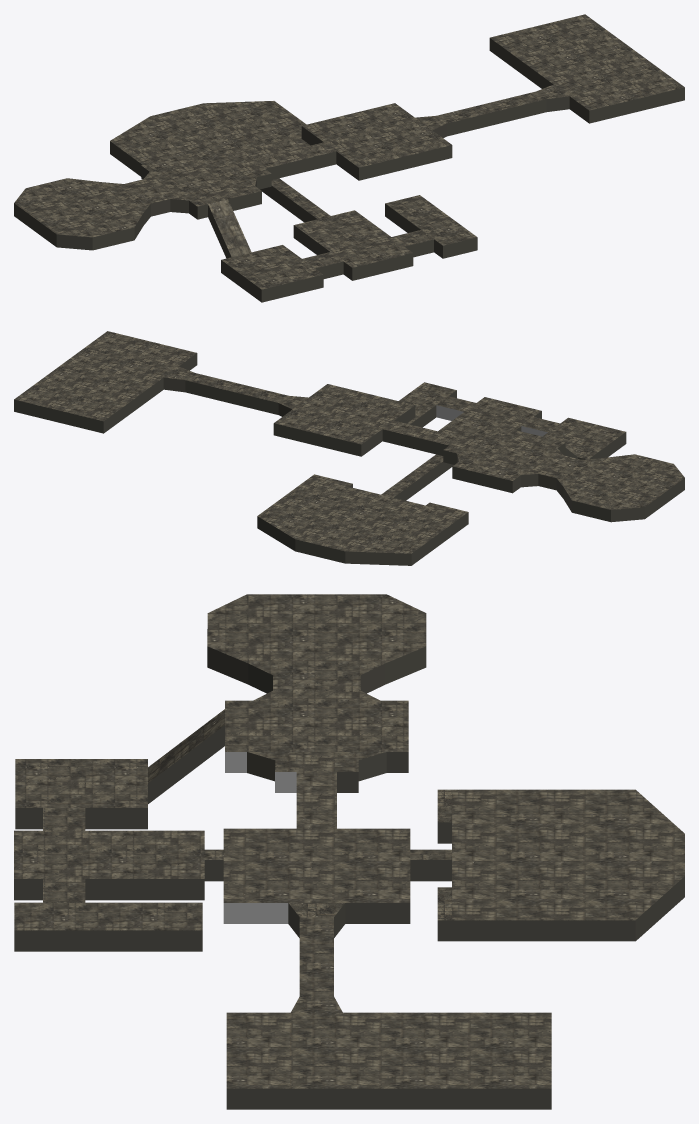
File: Stage_3.fbx
3 renders of one model, top to bottom at view 1: azimuth 30°, elevation 25°; view 2: azimuth 150°, elevation 25°; view 3: azimuth 270°, elevation 25°, orthographic. The views are drawn at different scales.
Parts seen in each view (by area): view 1: Stage_3; view 2: Stage_3; view 3: Stage_3.
Part boxes in pixels (left/top/right/bottom): Stage_3: left=14, top=14, right=684, bottom=302; Stage_3: left=14, top=331, right=684, bottom=565; Stage_3: left=14, top=594, right=684, bottom=1109.
Size of the model in its own units: 6572 by 493 by 3770.
Materials: 3 (1 with a texture image).
